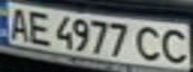4: (51, 14, 75, 50)
7: (106, 20, 133, 57), (87, 17, 112, 55)
9: (69, 16, 93, 52)
A: (3, 4, 33, 42)
C: (157, 26, 193, 65), (133, 24, 166, 62)
E: (21, 8, 54, 46)
